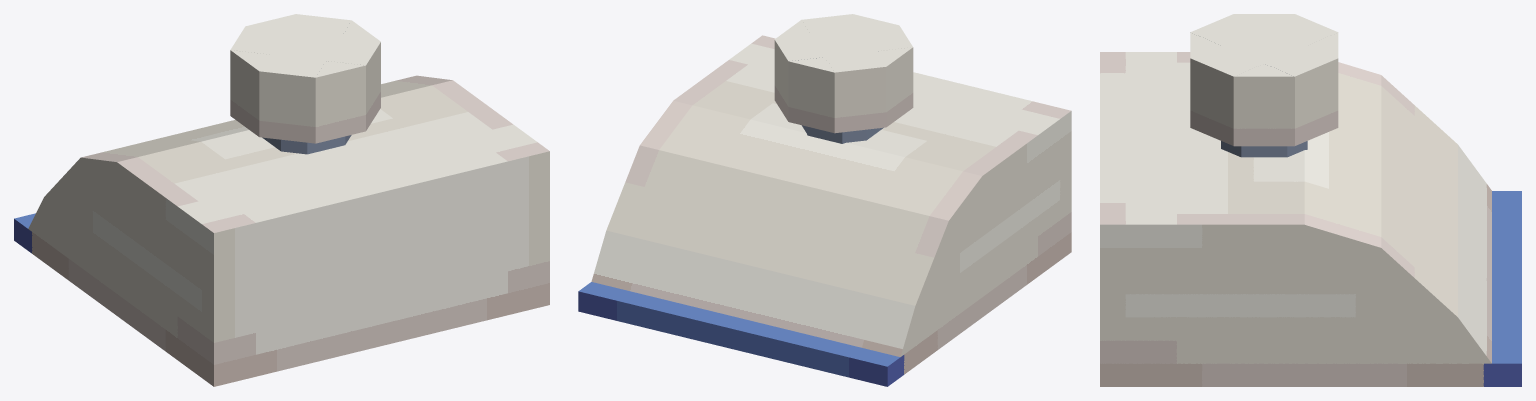
Rendered from wx980_carport_2.obj.
The picture shows the model from 3 angles, left to right: view 1: azimuth 30°, elevation 25°; view 2: azimuth 150°, elevation 25°; view 3: azimuth 270°, elevation 25°; orthographic projection. The views are drawn at different scales.
Visible parts, largest first — view 1: part_8e55607b860d5645a64d86d521730b52; view 2: part_8e55607b860d5645a64d86d521730b52; view 3: part_8e55607b860d5645a64d86d521730b52.
Boxes of the visible parts, <box> form: part_8e55607b860d5645a64d86d521730b52: <box>14,14,549,386</box>; part_8e55607b860d5645a64d86d521730b52: <box>578,14,1071,386</box>; part_8e55607b860d5645a64d86d521730b52: <box>1100,14,1521,386</box>.
Size of the model in its own units: 1 by 0.6905 by 1.03.
